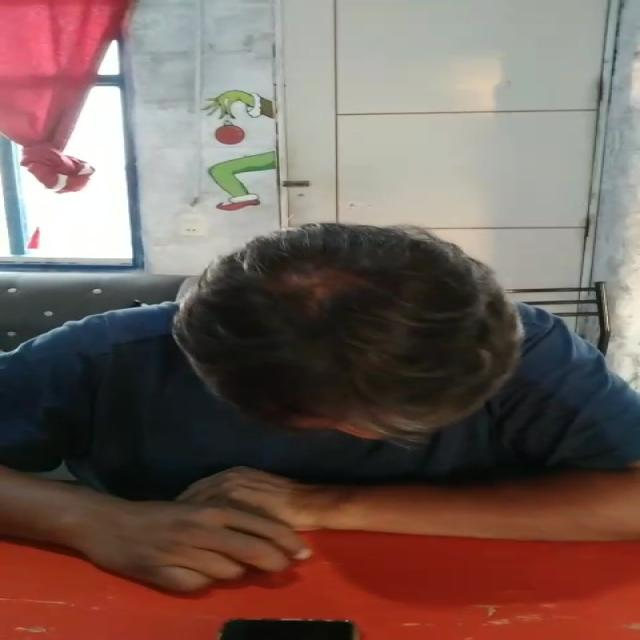9_cabeza_baja: (171, 220, 520, 442)
